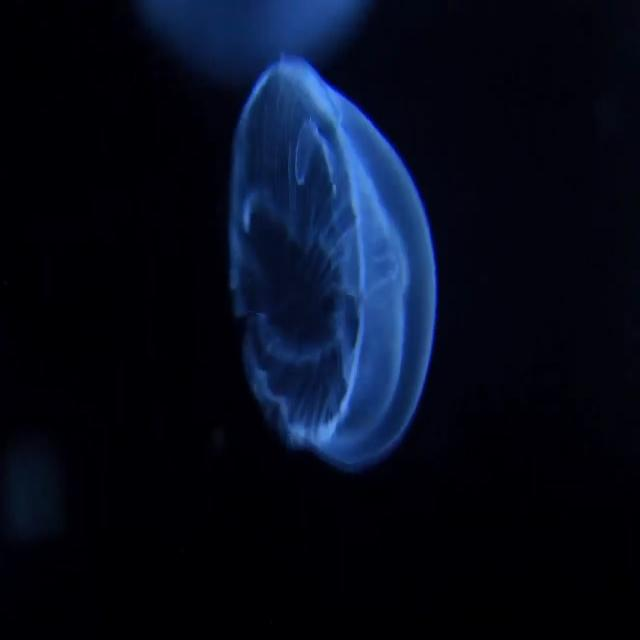Moon-jellyfish: (229, 58, 436, 470)
